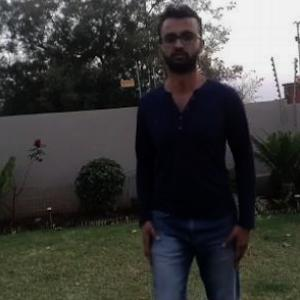follow: (132, 10, 241, 299)
